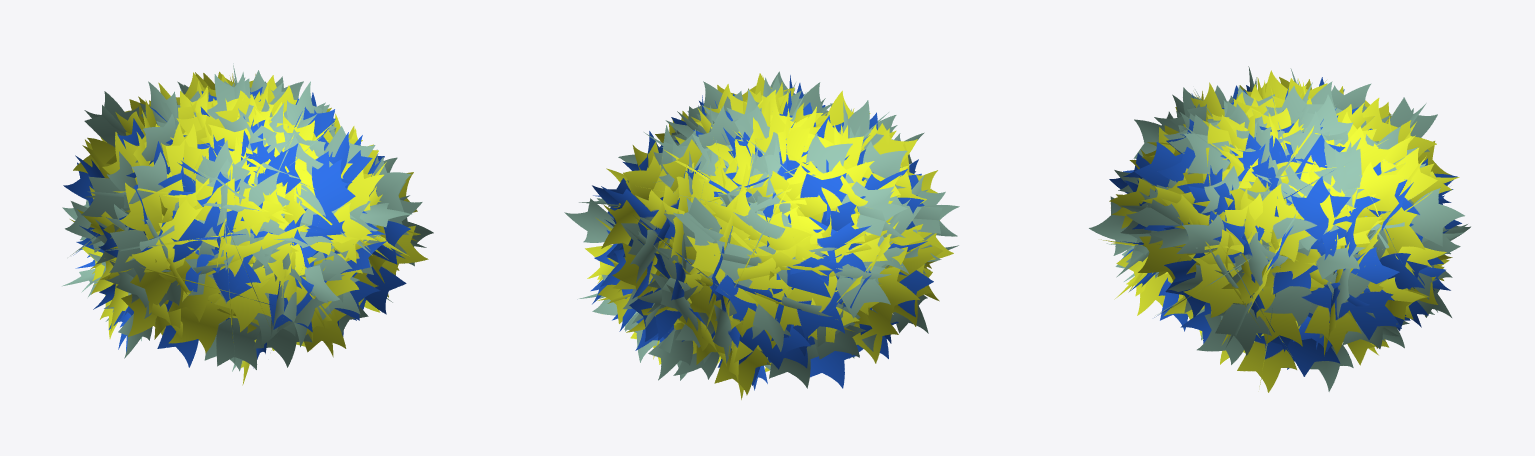
File: bush1.fbx
3 renders of one model, left to right at view 1: azimuth 30°, elevation 25°; view 2: azimuth 150°, elevation 25°; view 3: azimuth 270°, elevation 25°, orthographic. The views are drawn at different scales.
Parts seen in each view (by area): view 1: Bush; view 2: Bush; view 3: Bush.
Boxes of the visible parts, box(x1,y1,x2,y2) form: Bush: box(62, 63, 433, 385); Bush: box(564, 71, 959, 399); Bush: box(1089, 66, 1470, 392).
Bounding box in the file's own units: 234 × 190 × 233.
